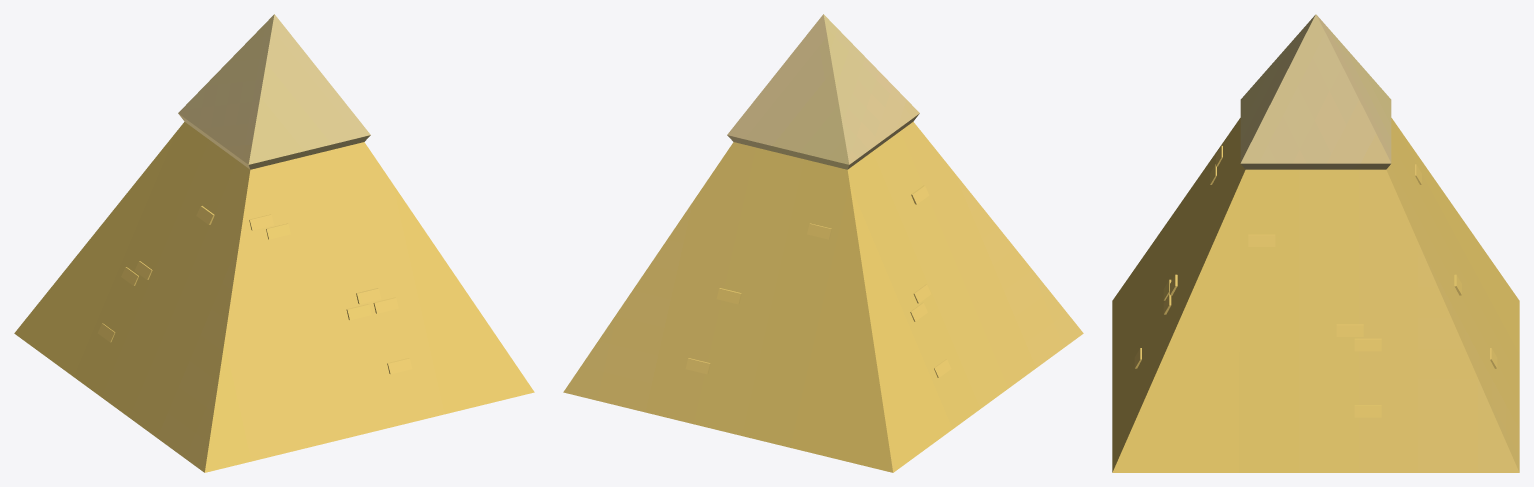
Rendered from Pyramid-dec.glb.
The picture shows the model from 3 angles, left to right: view 1: azimuth 30°, elevation 25°; view 2: azimuth 150°, elevation 25°; view 3: azimuth 270°, elevation 25°; orthographic projection. The views are drawn at different scales.
Parts seen in each view (by area): view 1: Cube.002_Cube.010; view 2: Cube.002_Cube.010; view 3: Cube.002_Cube.010.
Part boxes in pixels (x1,y1,x2,y2): Cube.002_Cube.010: (14,14,534,472); Cube.002_Cube.010: (563,14,1083,472); Cube.002_Cube.010: (1112,14,1519,472).
Size of the model in its own units: 14.8 by 14.95 by 14.8.
Materials: 1 (1 with a texture image).
